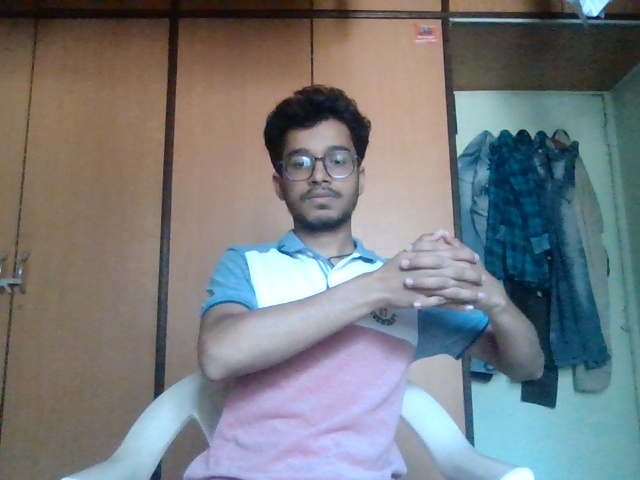good: (372, 225, 507, 332)
